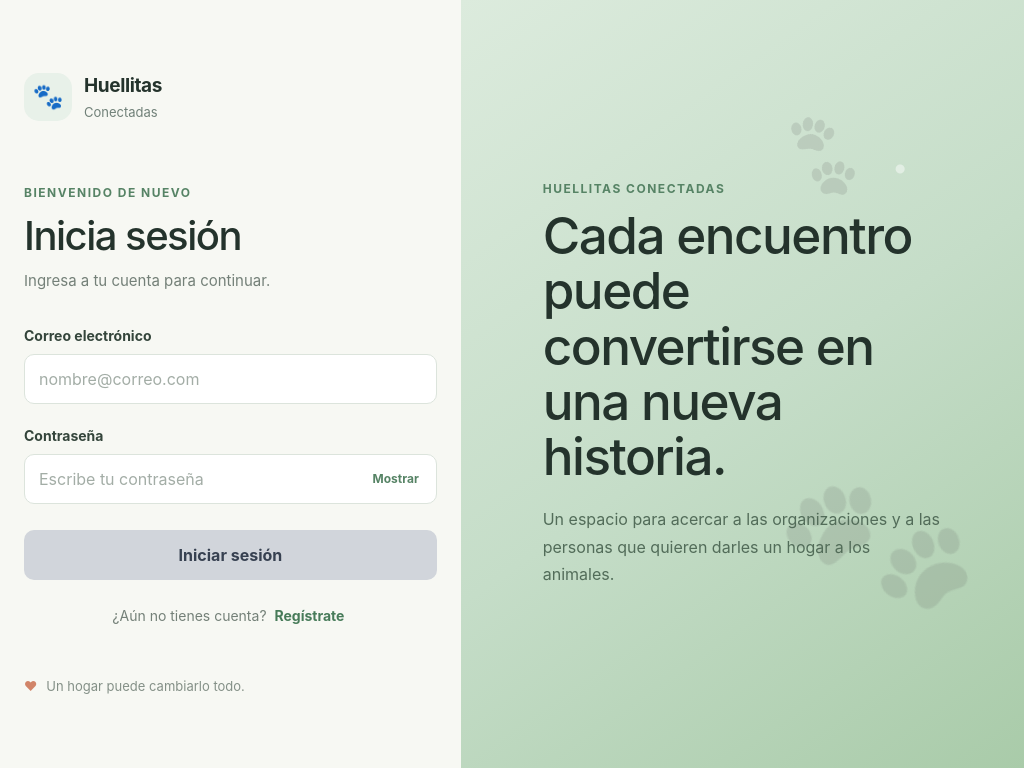
Test: Login › only enables login with a valid email and a nonempty password
The width and height of the screenshot is (1024, 768).
Check: the submit button is disabled, box [24,530,437,580]
Type "ana@example.com" into the field with id "login-email".
click(230, 378); type("ana@example.com")  # box [24,354,437,404]
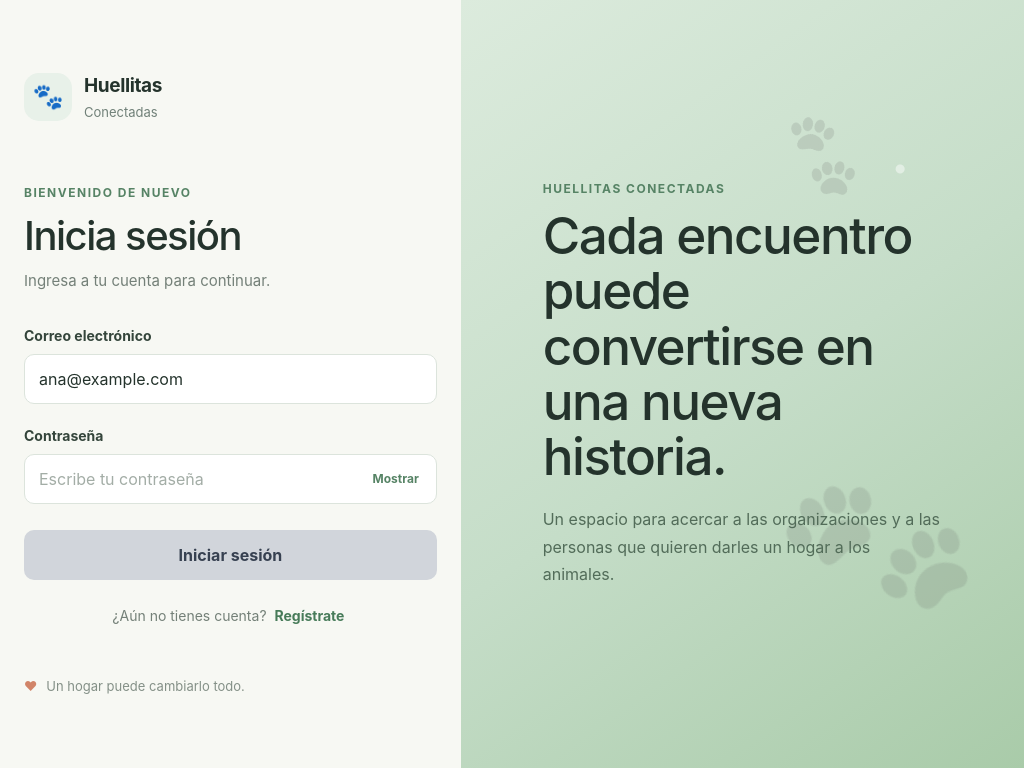
Check: the submit button is disabled, box [24,530,437,580]
Type "clave-de-prueba" into the password field with id "login-password".
click(230, 478); type("clave-de-prueba")  # box [24,454,437,504]
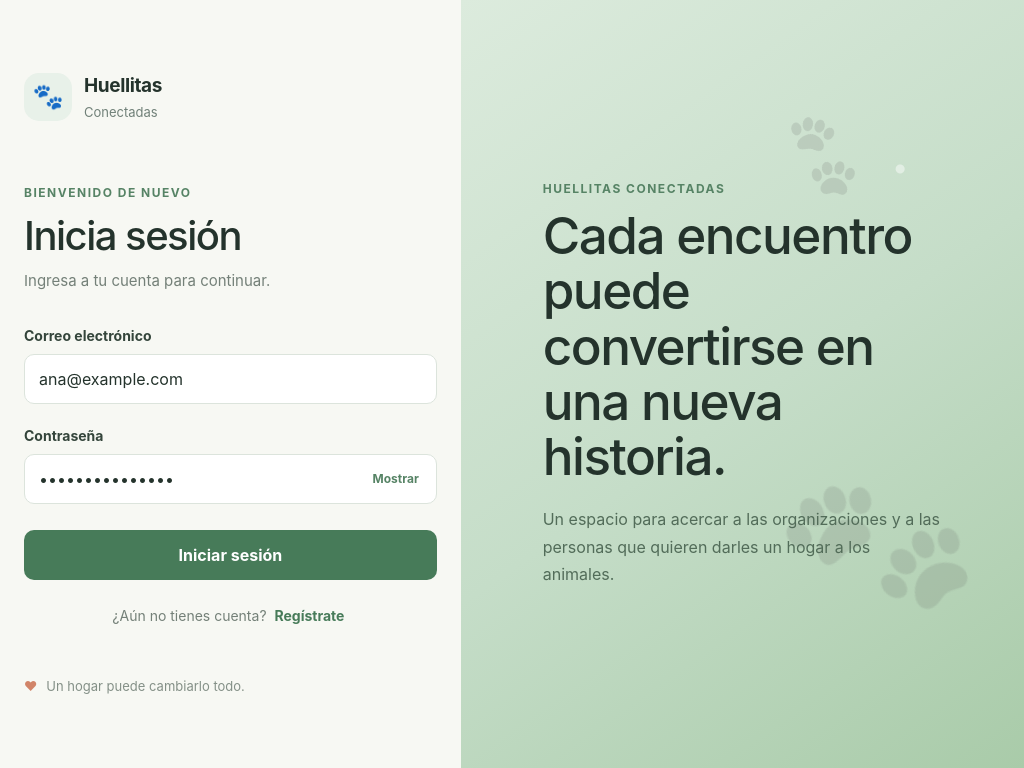
Check: the submit button is enabled, box [24,530,437,580]
Replace the text in the field with id "login-email" with "correo-invalido" at (230, 378), box [24,354,437,404]
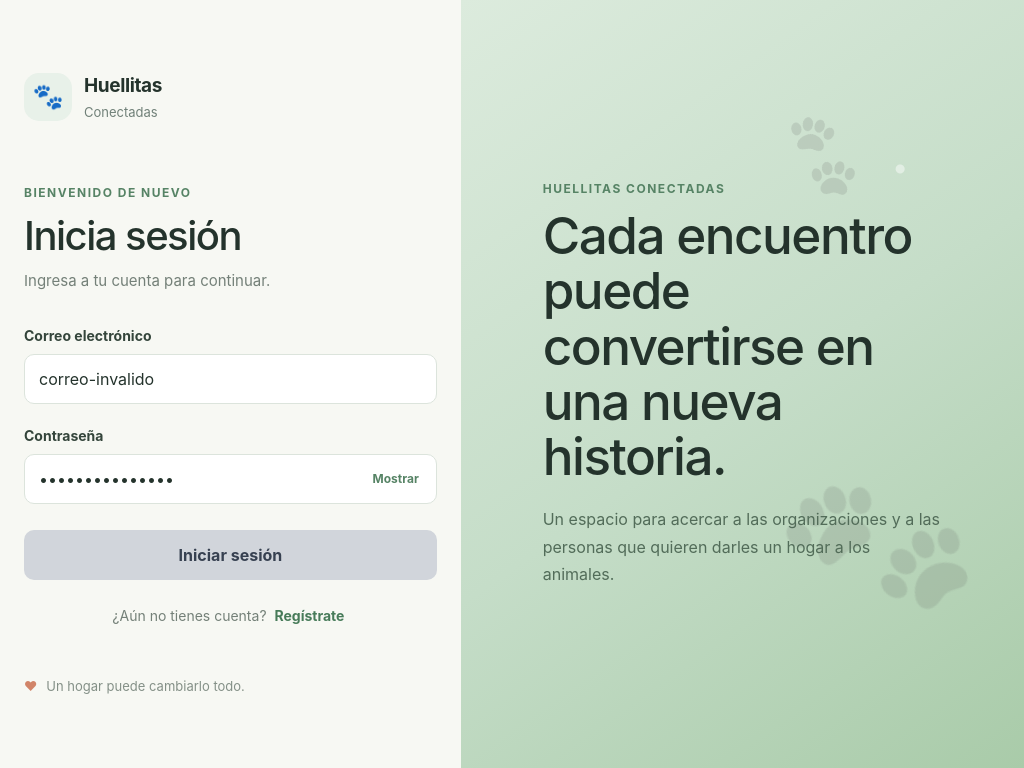
Check: the submit button is disabled, box [24,530,437,580]
Replace the text in the field with id "login-email" with "ana@example.com" at (230, 378), box [24,354,437,404]
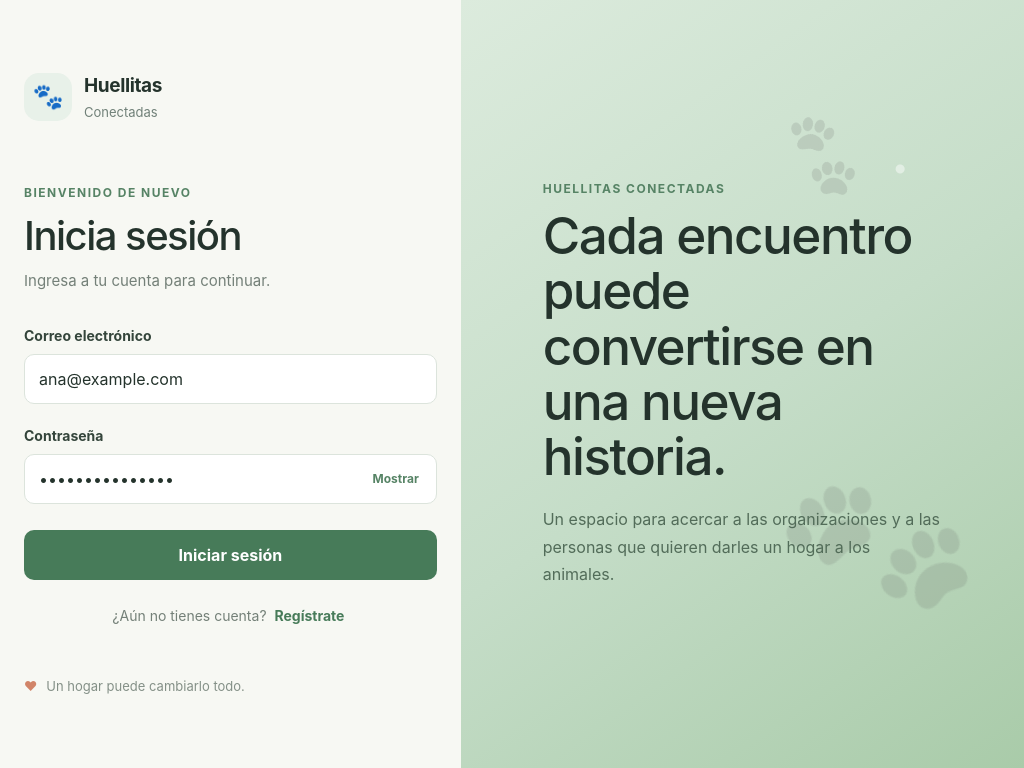
Clear the password field with id "login-password" at (230, 478), box [24,454,437,504]
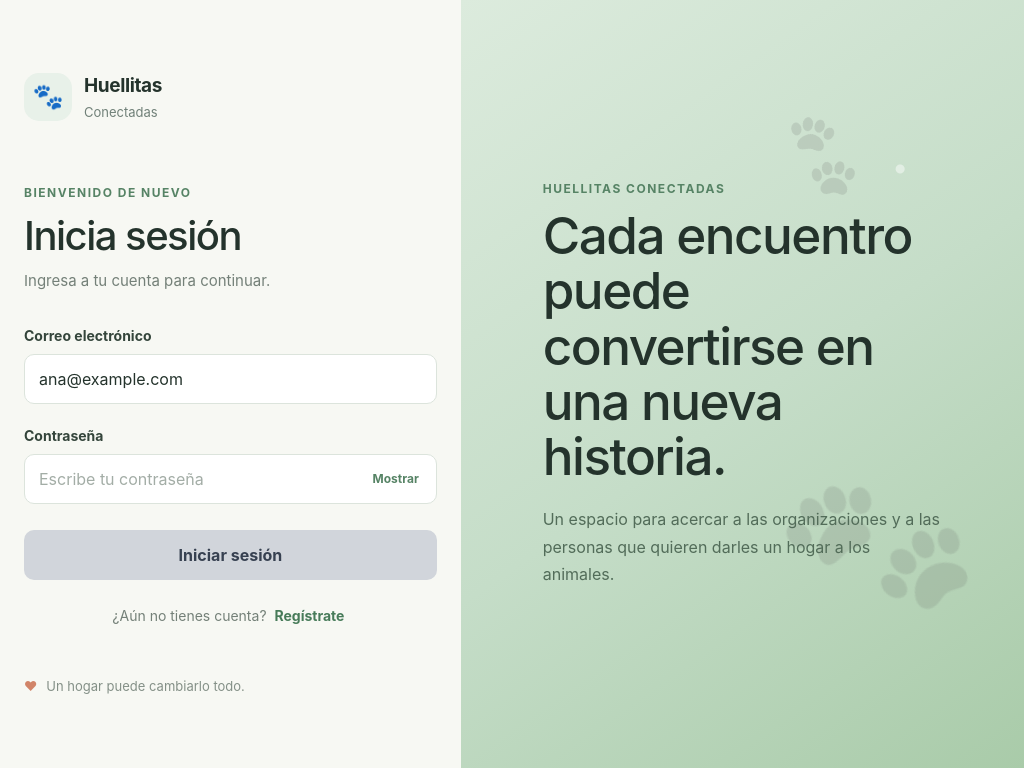
Check: the submit button is disabled, box [24,530,437,580]
